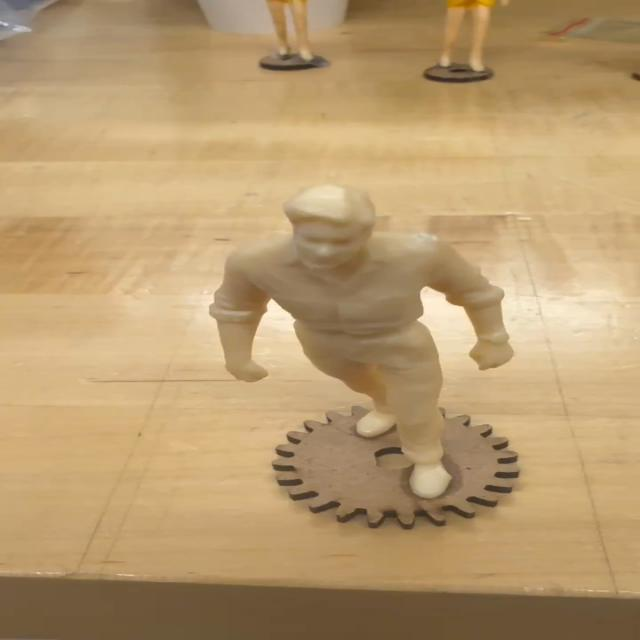Unauthorized: (209, 179, 516, 501)
